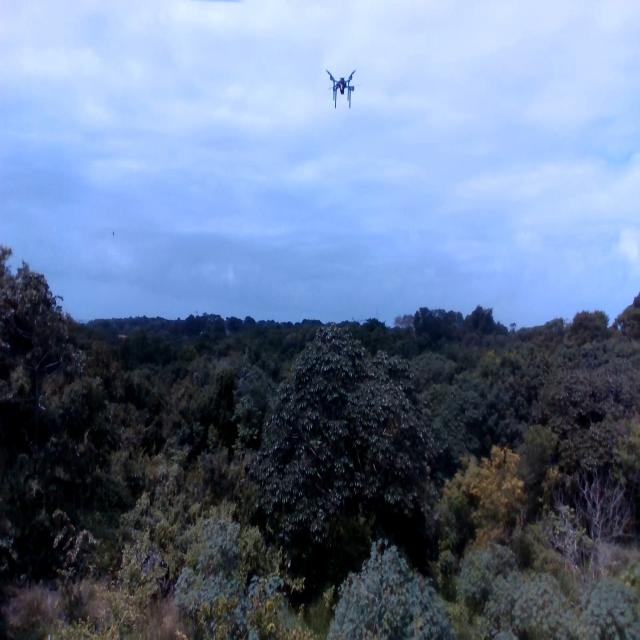-uav-: (321, 58, 362, 116)
